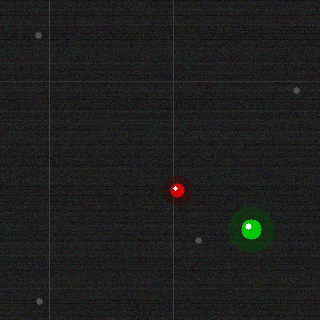green_normal: (239, 217, 263, 241)
red_fault: (168, 181, 186, 199)
